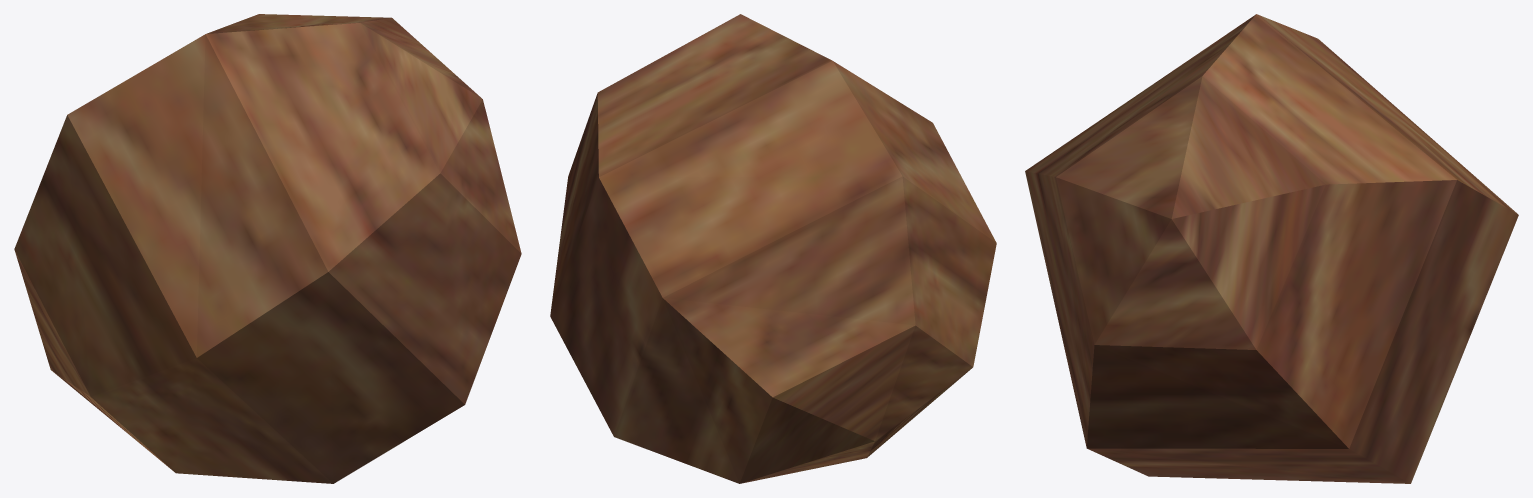
The model's file is my-actor-lod0.glb.
The picture shows the model from 3 angles, left to right: view 1: azimuth 30°, elevation 25°; view 2: azimuth 150°, elevation 25°; view 3: azimuth 270°, elevation 25°; orthographic projection. The views are drawn at different scales.
Visible parts, largest first — view 1: ecoventrock-lod0.001; view 2: ecoventrock-lod0.001; view 3: ecoventrock-lod0.001.
Boxes of the visible parts, x1=… form: ecoventrock-lod0.001: x1=14, y1=14, x2=521, y2=483; ecoventrock-lod0.001: x1=550, y1=14, x2=996, y2=483; ecoventrock-lod0.001: x1=1025, y1=14, x2=1518, y2=483.
Size of the model in its own units: 0.5574 by 0.5312 by 0.5574.
Materials: 1 (1 with a texture image).
